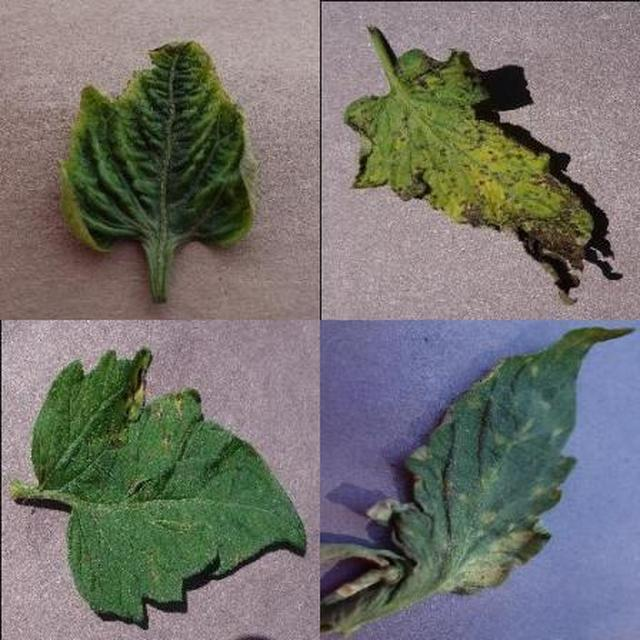Yellow Leaf Curl Virus: (227, 210, 640, 640)
